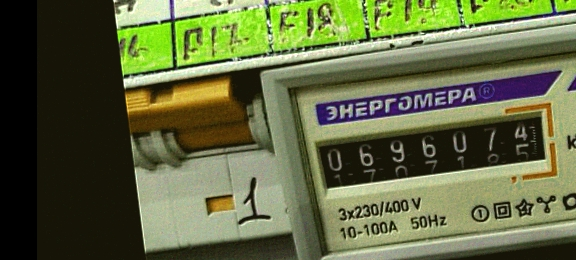0: (325, 145, 347, 173), (450, 127, 470, 155)
4: (512, 118, 530, 142)
5: (514, 141, 533, 163)
6: (418, 131, 440, 160), (356, 141, 377, 168)
7: (482, 124, 501, 152)
9: (388, 136, 407, 164)
screen: (304, 99, 565, 210)
